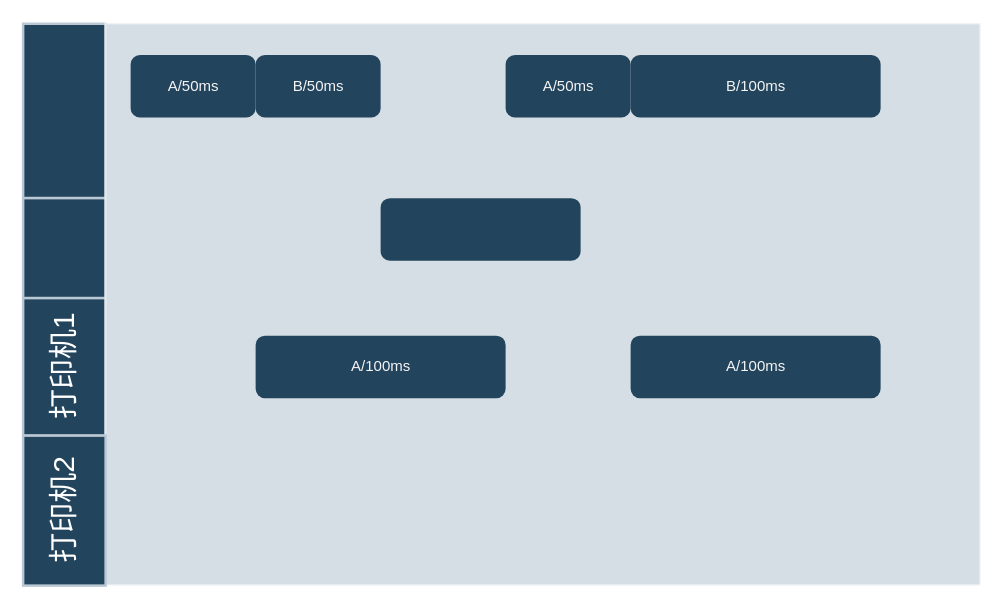
This 1003x608 diagram has some shape labels left out. Each missing label, with the centre of its shape:
"B/80ms" belongs at point 480,229.
"中央处理器" belongs at point 63,110.
"输入" belongs at point 63,247.
